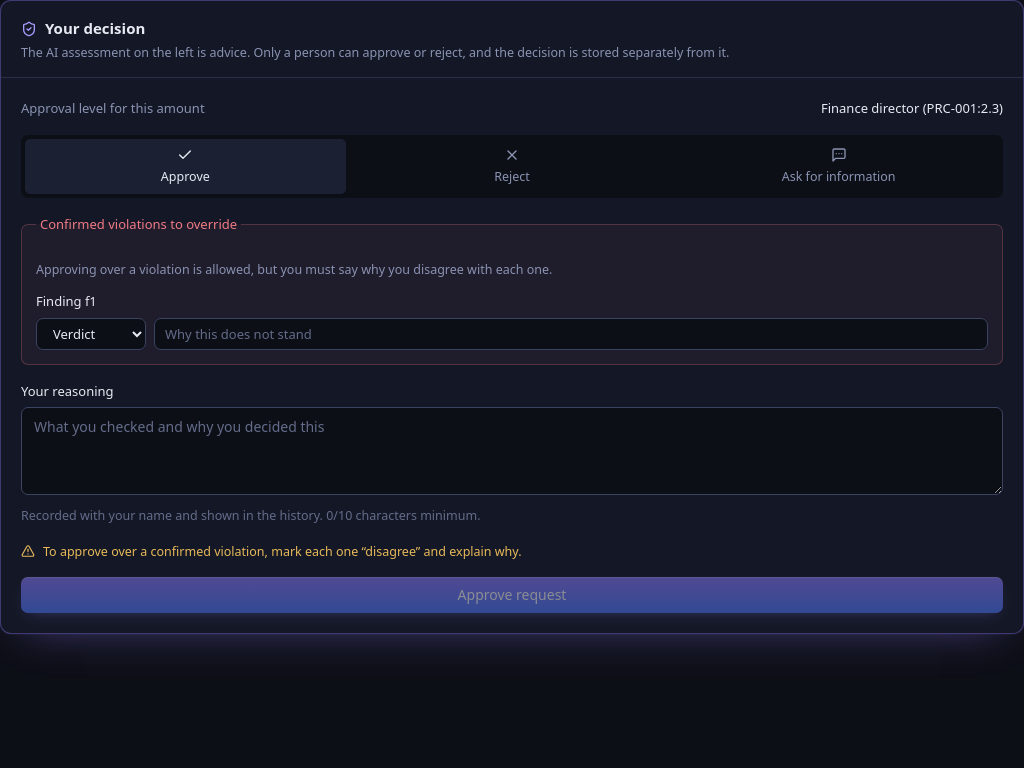
Test: DecisionPanel › makes approving over a confirmed violation depend on a documented override
Type "Reviewed with the supplier by phone" into the text box labelled "Your reasoning".
click(512, 451); type("Reviewed with the supplier by phone")  # box [21,407,1003,495]
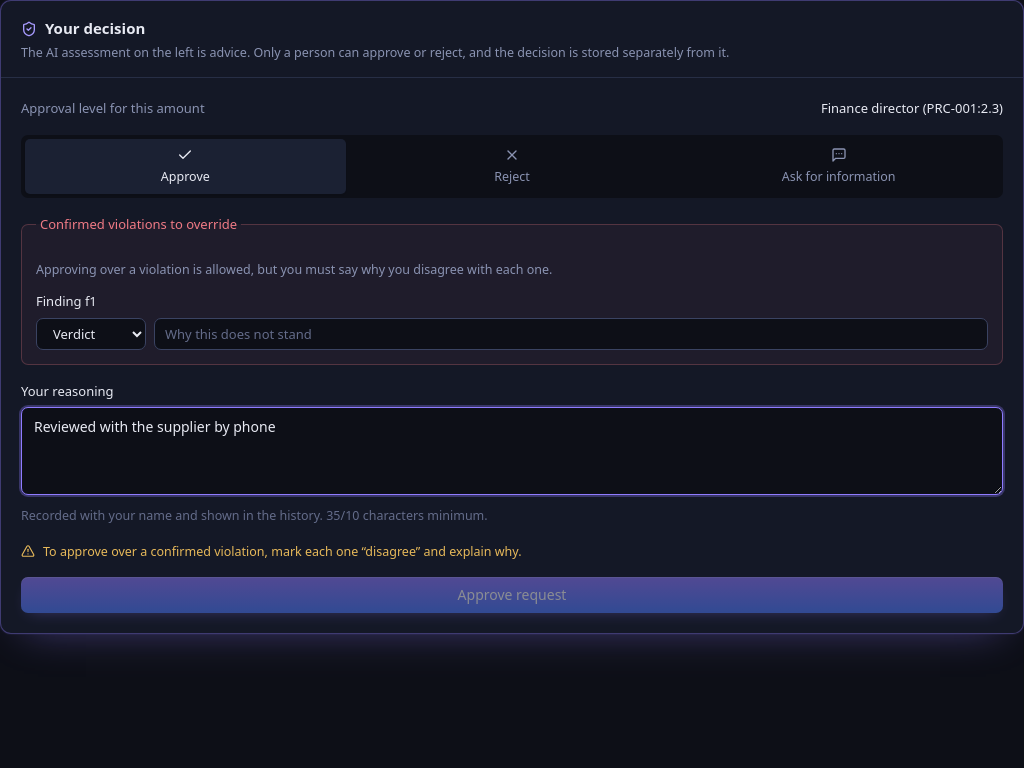
Expected: the button "Approve request" is disabled, [21,577,1003,613]
Expected: the list item "mark each one “disagree” and explain why" is shown, [43,543,522,560]
Select "Disagree" in the dropdown named "Verdict on Finding f1" at (91, 334), box [36,318,146,350]
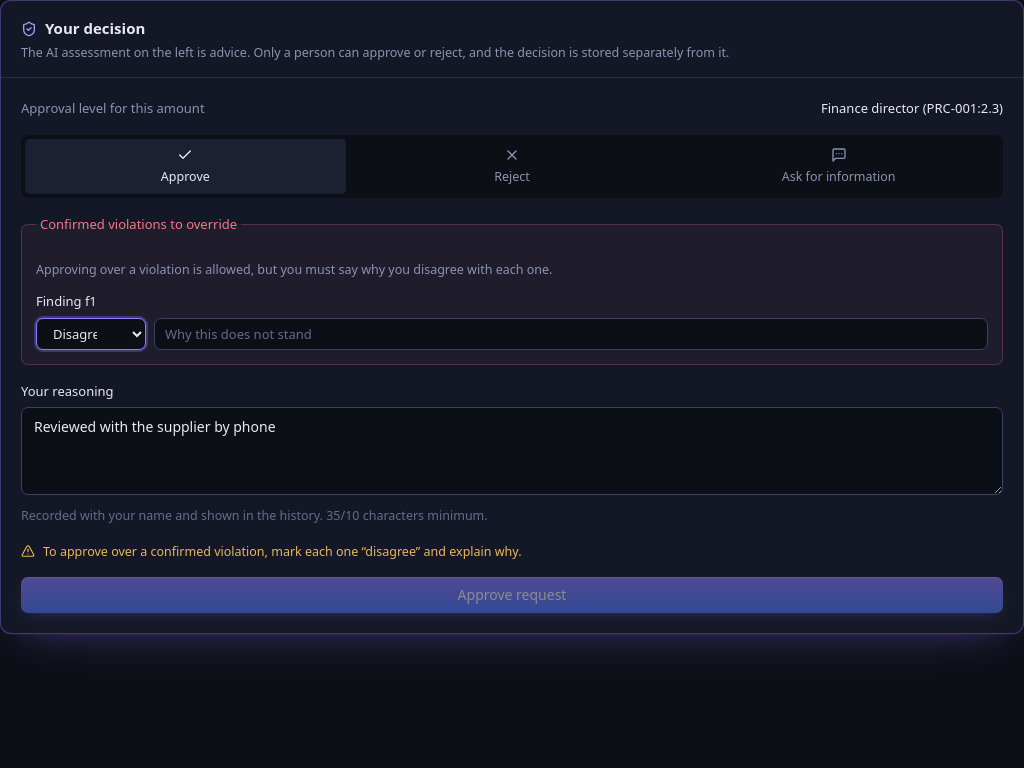
Expected: the button "Approve request" is disabled, [21,577,1003,613]
Type "Supplier corrected the quote" into the field named "Why you disagree with Finding f1".
click(571, 334); type("Supplier corrected the quote")  # box [154,318,988,350]
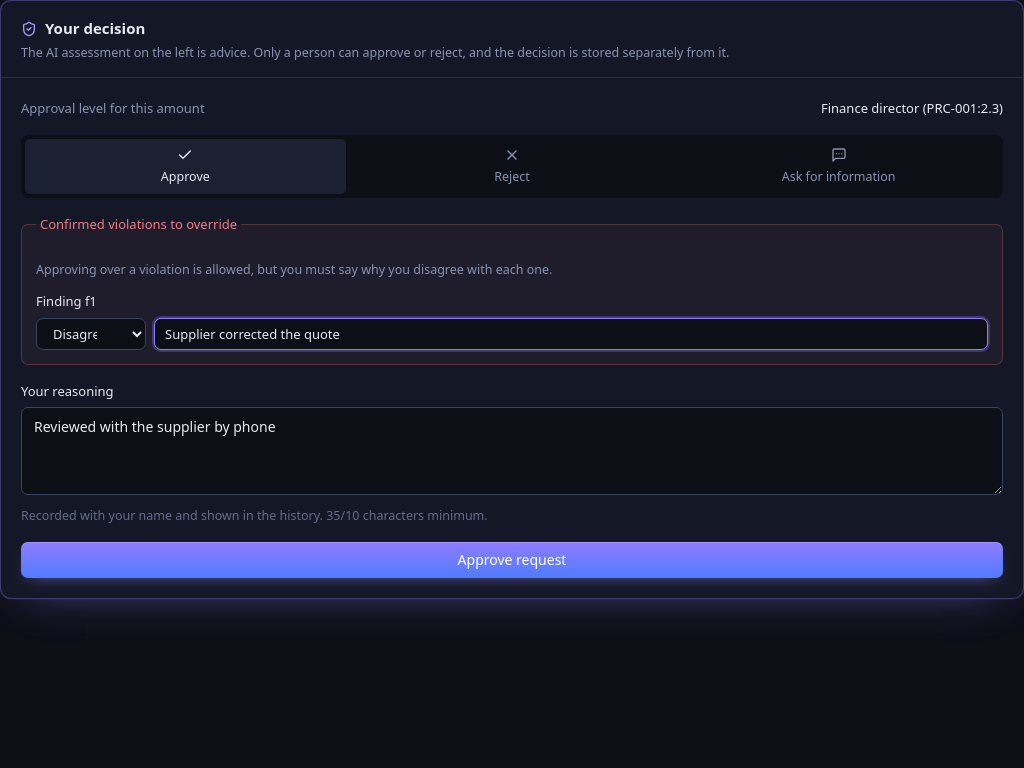
Result: the button "Approve request" is enabled at [21,542,1003,578]
Select "Agree" in the dropdown named "Verdict on Finding f1" at (91, 334), box [36,318,146,350]
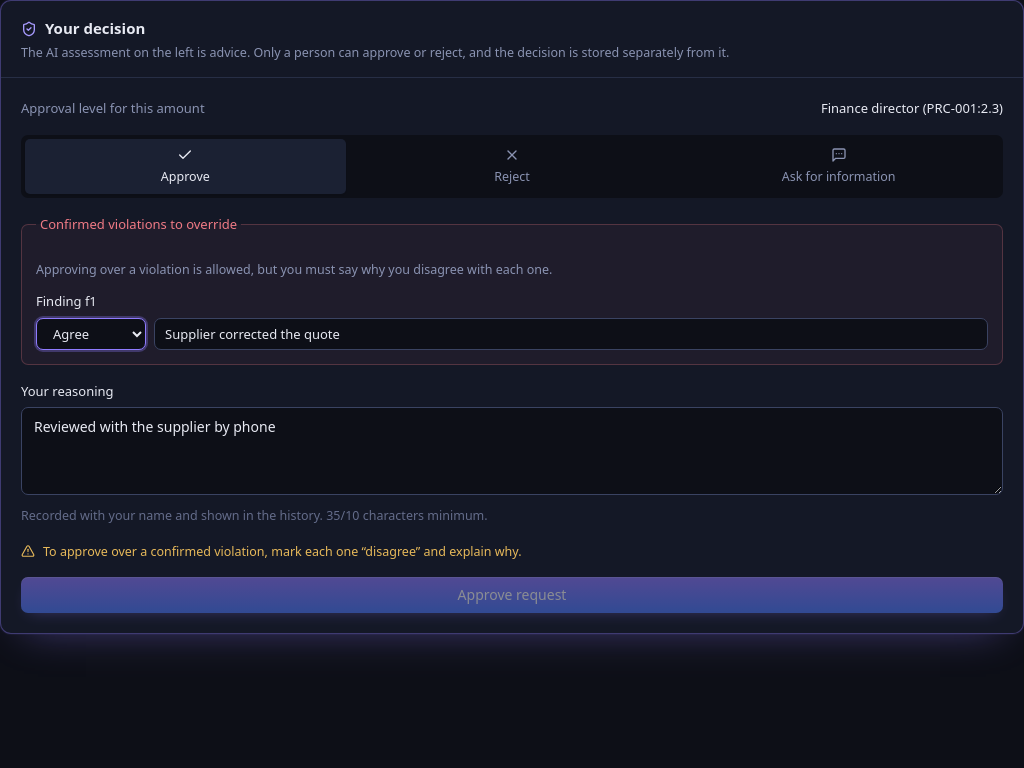
Result: the button "Approve request" is disabled at [21,577,1003,613]
